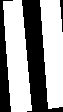parkingspot: (3, 0, 31, 112), (40, 0, 63, 108)
